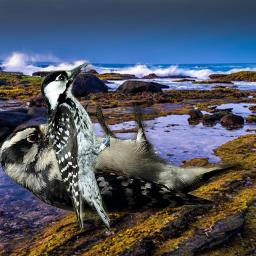Woodpecker: (0, 102, 253, 214), (40, 62, 110, 234)
